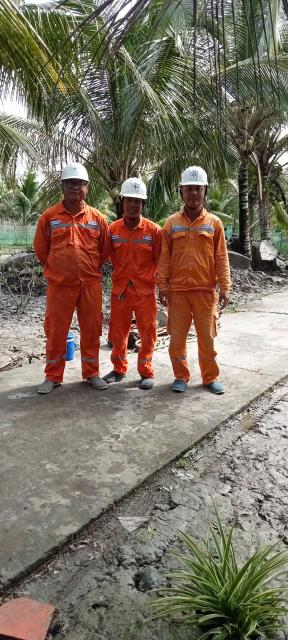helmet: (177, 162, 208, 189), (57, 162, 92, 184), (120, 177, 148, 203)
shoes: (98, 364, 128, 387), (203, 376, 231, 398), (34, 374, 61, 396), (133, 370, 159, 392), (166, 373, 190, 396), (82, 370, 108, 390)
